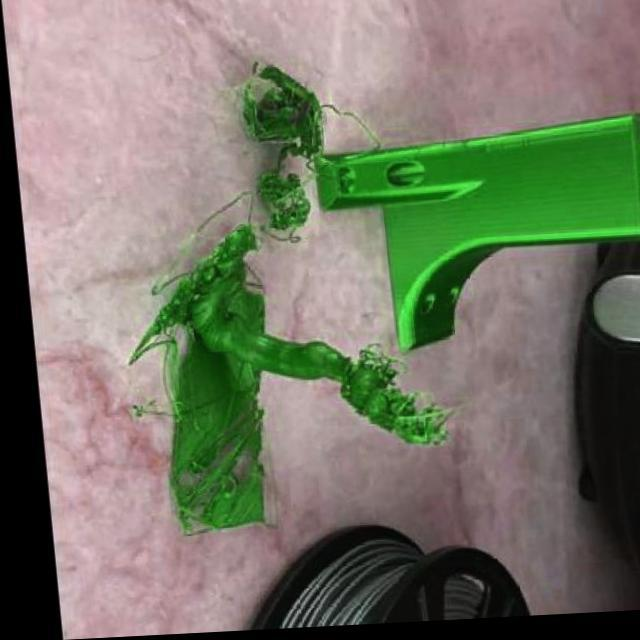spaghetti: (108, 193, 275, 430), (225, 51, 394, 251), (326, 341, 454, 464)
